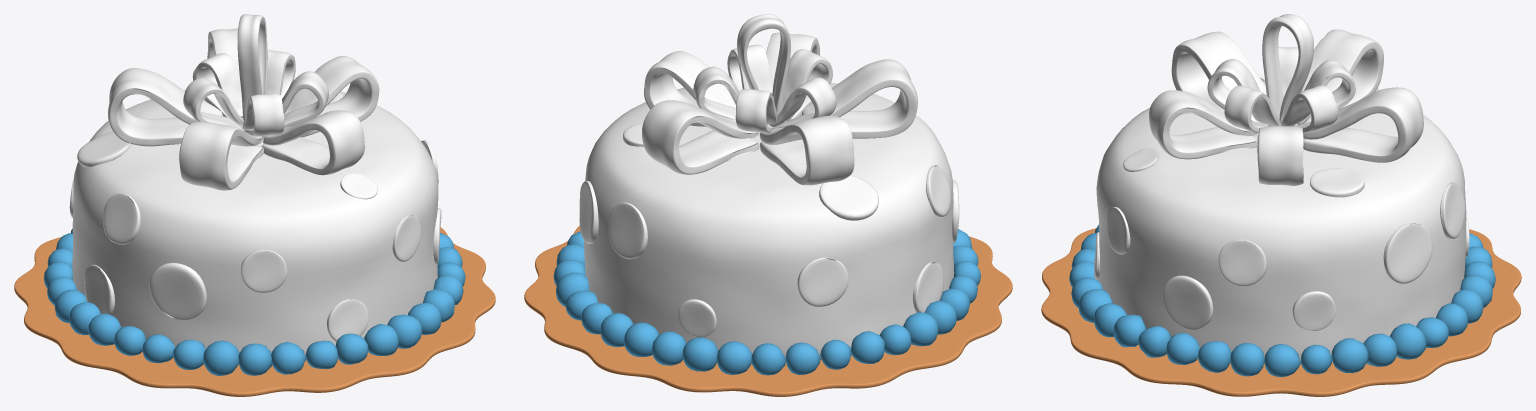
The model's file is cakey.glb.
3 views of the same model, side by side, from view 1: azimuth 30°, elevation 25°; view 2: azimuth 150°, elevation 25°; view 3: azimuth 270°, elevation 25° (orthographic).
Parts seen in each view (by area): view 1: body, ribbon, base, balls, decorations; view 2: body, ribbon, balls, base, decorations; view 3: body, ribbon, balls, base, decorations.
Boxes of the visible parts, <box> form: body: <box>72,90,438,360</box>; ribbon: <box>108,14,379,190</box>; base: <box>14,227,495,396</box>; balls: <box>43,229,465,376</box>; decorations: <box>69,92,441,341</box>; body: <box>584,82,954,362</box>; ribbon: <box>642,14,917,185</box>; balls: <box>553,229,980,375</box>; base: <box>524,226,1012,396</box>; decorations: <box>579,123,959,337</box>; body: <box>1096,80,1466,364</box>; ribbon: <box>1149,14,1423,185</box>; balls: <box>1069,225,1495,377</box>; base: <box>1041,228,1521,396</box>; decorations: <box>1094,75,1469,330</box>.
Bounding box in the file's own units: 2.59 × 1.66 × 2.59.
